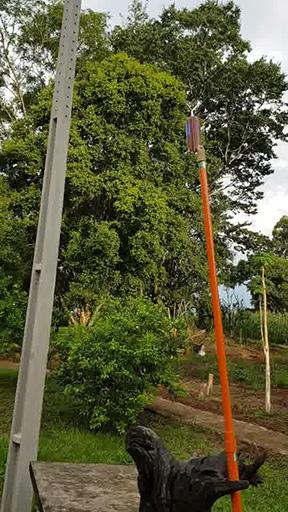Detector_Tensao_Contato: (185, 102, 201, 153)
Vara_Manobra: (196, 152, 241, 512)
